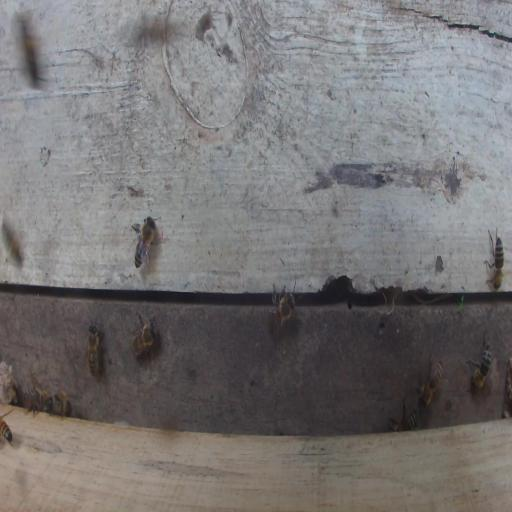nonpollenbee: (129, 213, 163, 269), (417, 355, 444, 410), (466, 334, 492, 391), (266, 289, 296, 338), (483, 225, 505, 291), (132, 311, 160, 359), (82, 323, 104, 379), (390, 396, 418, 432), (23, 386, 52, 419), (53, 389, 73, 420), (0, 416, 14, 445)
